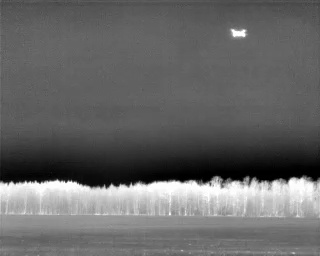DRONE: (226, 23, 251, 44)
